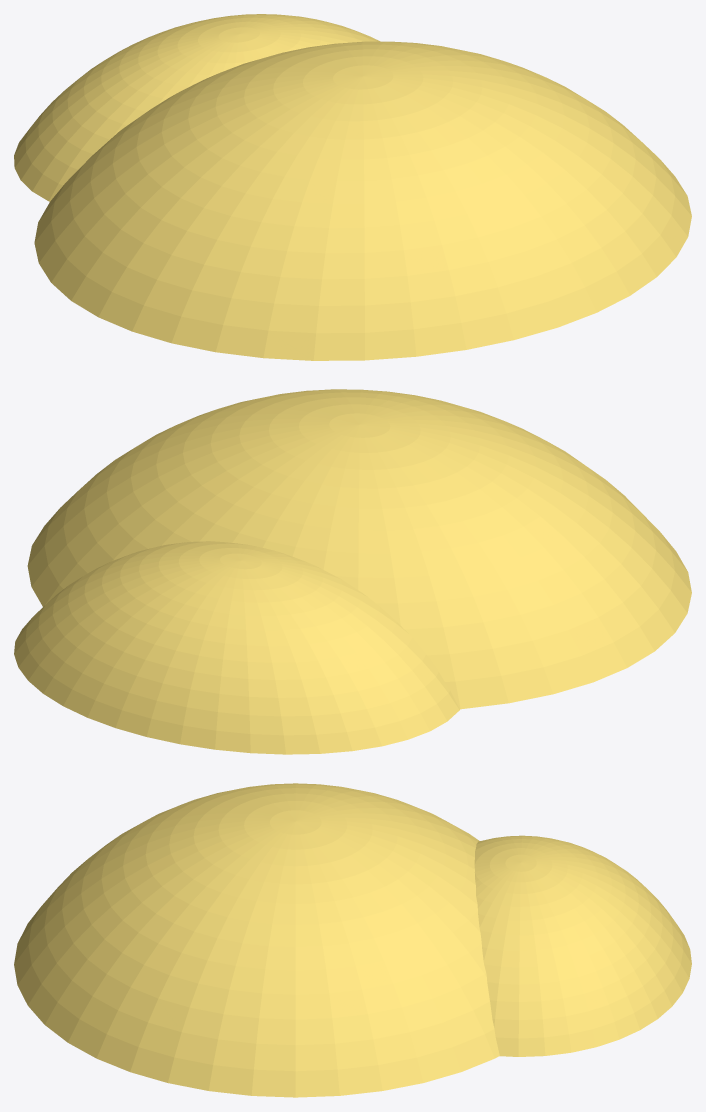
The model's file is sand2.glb.
3 views of the same model, one above another, from view 1: azimuth 30°, elevation 25°; view 2: azimuth 150°, elevation 25°; view 3: azimuth 270°, elevation 25° (orthographic). The views are drawn at different scales.
Visible parts, largest first — view 1: Сфера.004, Сфера.001; view 2: Сфера.004, Сфера.001; view 3: Сфера.004, Сфера.001.
Part boxes in pixels (box(x1,y1,x2,y2)): Сфера.004: box(34, 41, 691, 360); Сфера.001: box(14, 14, 380, 201); Сфера.004: box(27, 389, 691, 709); Сфера.001: box(14, 541, 459, 754); Сфера.004: box(14, 783, 499, 1097); Сфера.001: box(474, 835, 691, 1056).
Size of the model in its own units: 9.21 by 2.31 by 9.92.
